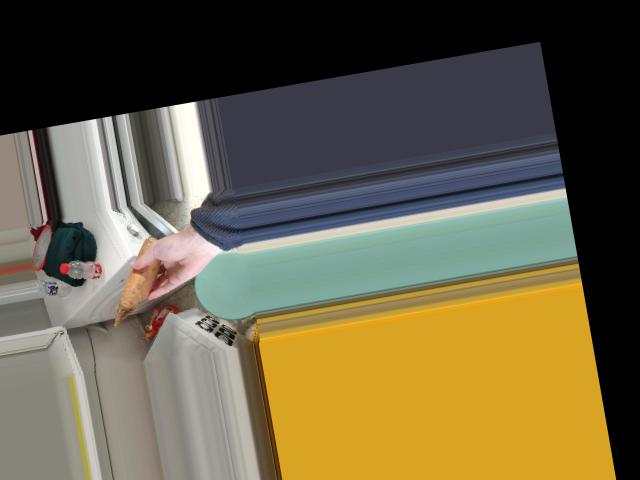sweet_potato: (121, 237, 174, 295)
